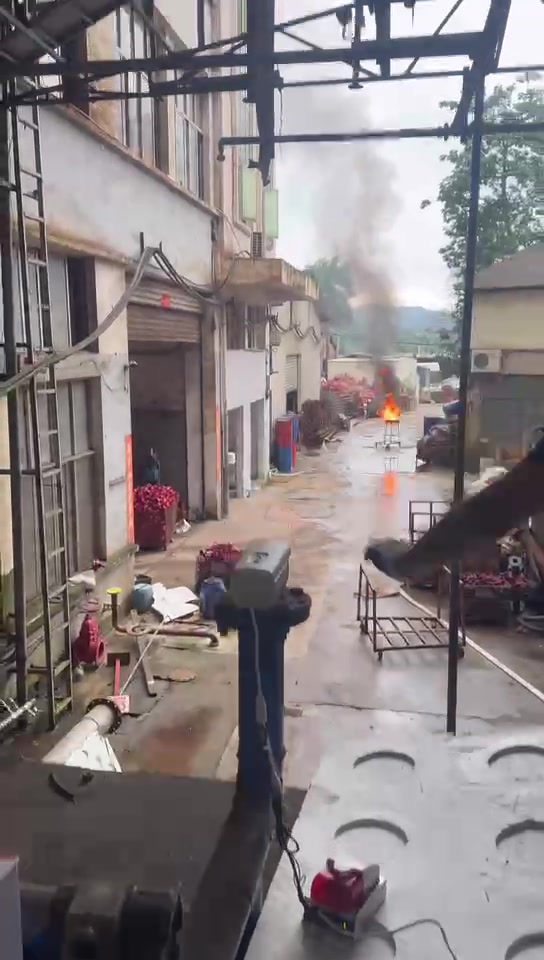fire: (381, 393, 398, 420)
